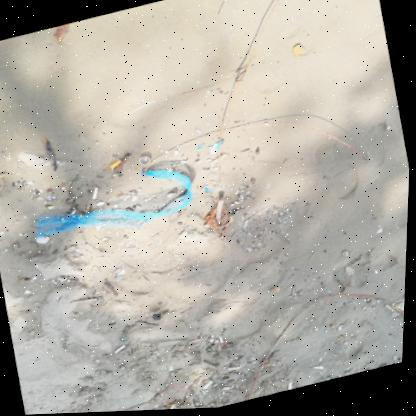Plastic: (36, 170, 193, 238), (215, 142, 224, 149), (205, 188, 211, 193)
Waste: (110, 159, 122, 169), (139, 156, 151, 166), (115, 345, 127, 354), (205, 381, 214, 390), (92, 187, 98, 198), (116, 274, 125, 281), (230, 367, 241, 371), (290, 383, 294, 391), (46, 195, 54, 198), (332, 325, 336, 329)
